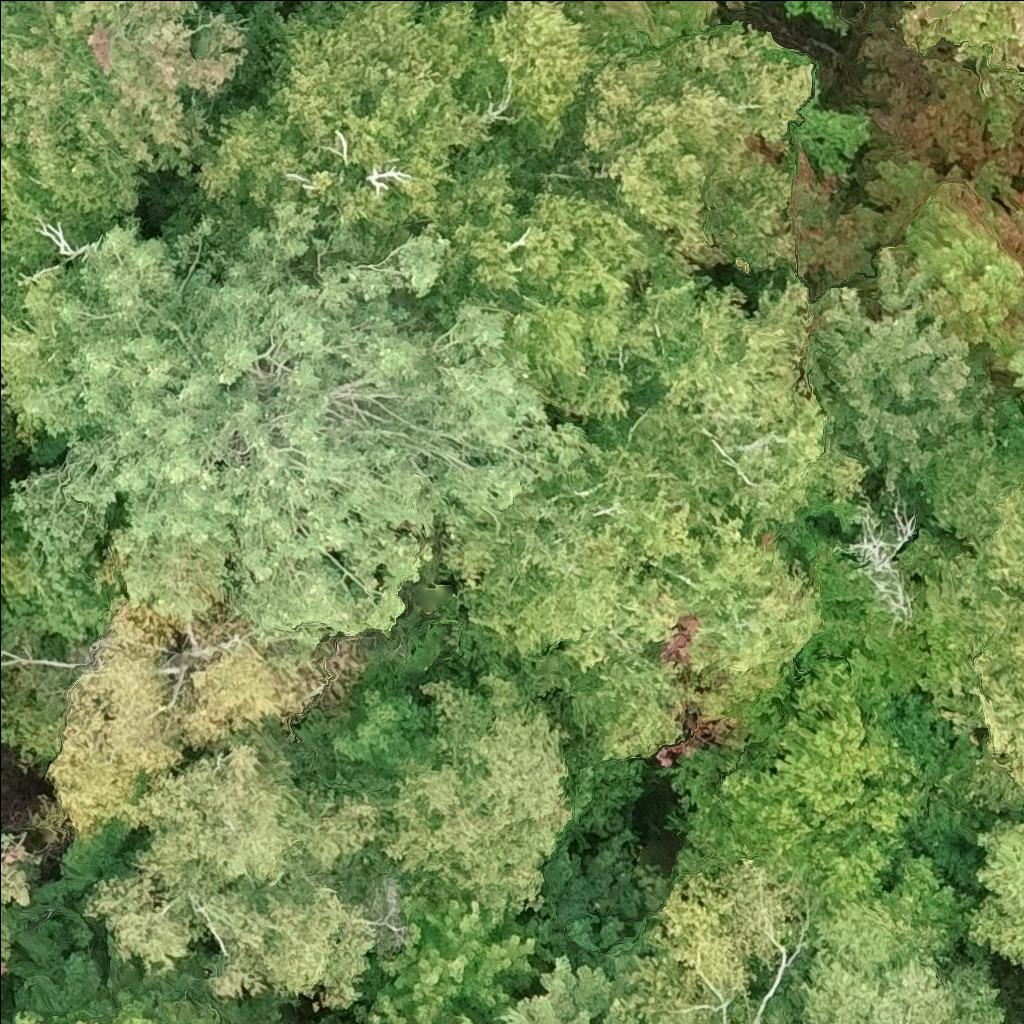crown: (1, 177, 609, 659), (442, 272, 867, 765), (196, 0, 685, 426), (80, 739, 456, 1012), (660, 647, 939, 926), (0, 0, 252, 270), (45, 595, 324, 833), (565, 24, 820, 274), (881, 450, 1023, 819), (383, 665, 577, 922), (784, 851, 1008, 1023), (607, 851, 807, 1023), (360, 895, 549, 1023), (898, 0, 1023, 140), (960, 816, 1023, 968), (488, 953, 614, 1023), (570, 0, 722, 47), (0, 834, 40, 977), (363, 986, 438, 1023), (784, 0, 844, 29), (1, 1008, 103, 1023), (105, 998, 165, 1023), (764, 998, 807, 1023), (0, 0, 20, 41), (0, 503, 16, 543), (464, 0, 503, 14), (596, 1013, 637, 1023), (720, 0, 755, 8), (451, 1014, 473, 1023), (316, 1016, 331, 1023)
